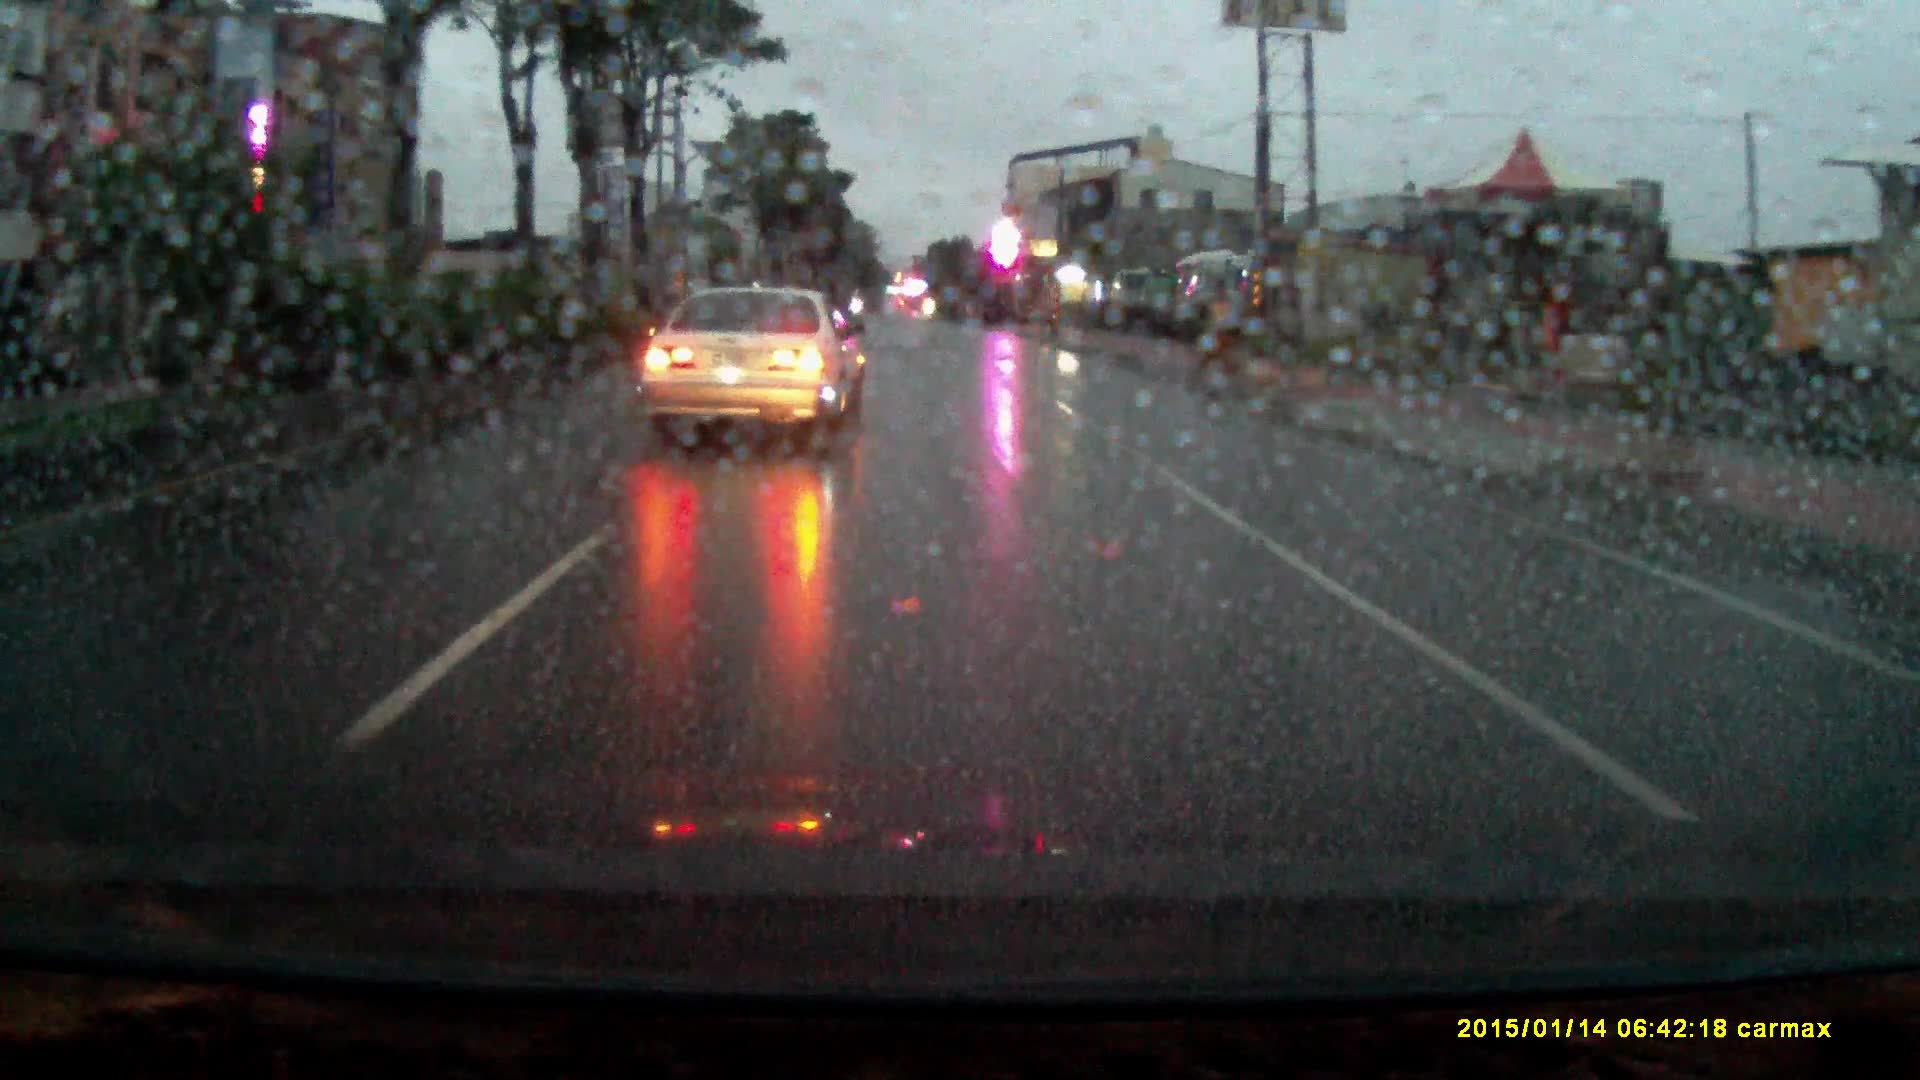vehicle: (637, 287, 873, 454), (1174, 258, 1253, 344), (1110, 273, 1160, 331)
